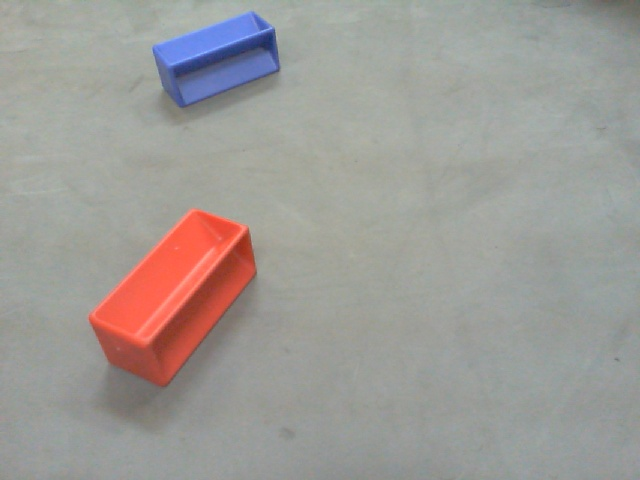BlueSample: (152, 7, 280, 112)
RedSample: (82, 204, 260, 388)
